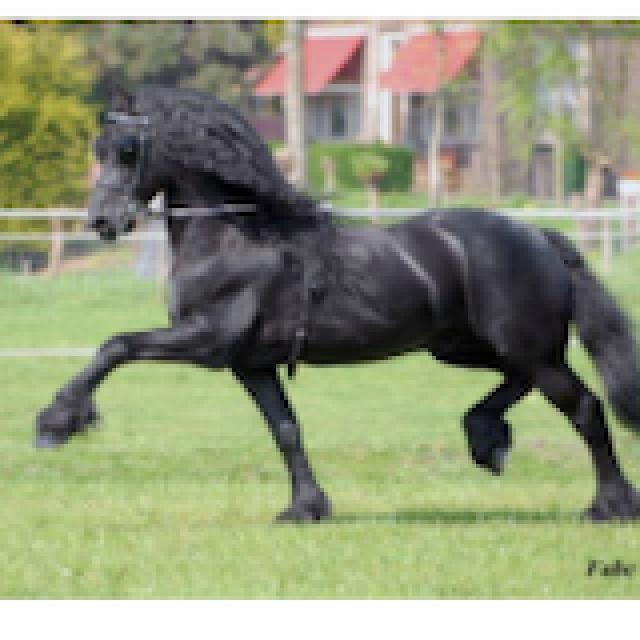Horse: (24, 72, 636, 528)
